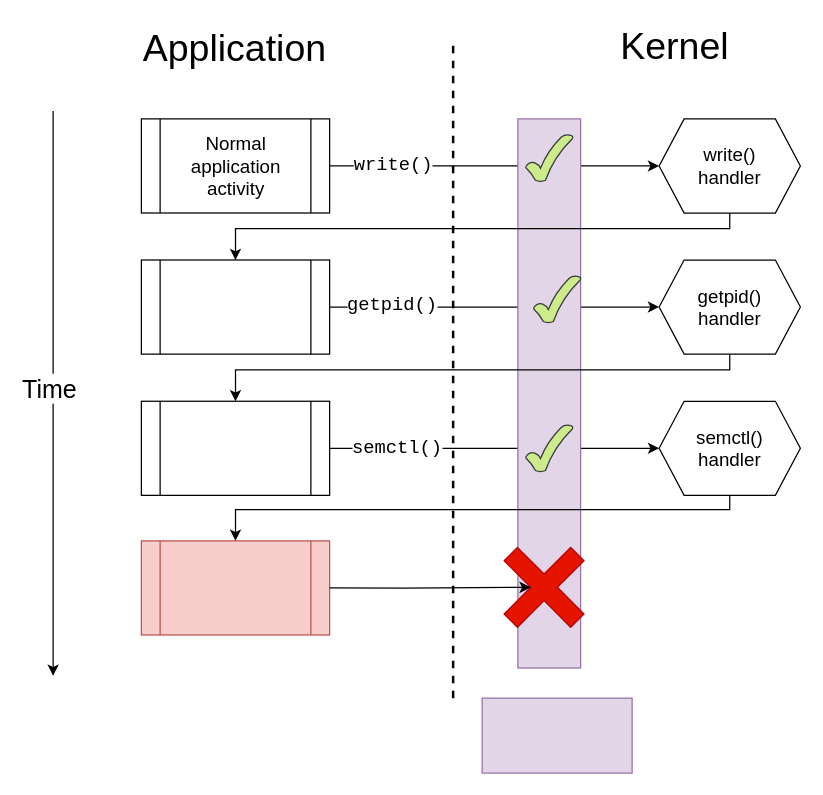
Some shapes in this 823 by 795 pixel diagram are drawn without their labels. Here are the shapes that lost their labels. From the top down, the centre of each, then its label:
At (235,587): "COMPROMISE Attacker makes non-whitelisted system call".
At (556,735): "System Call Filter".
